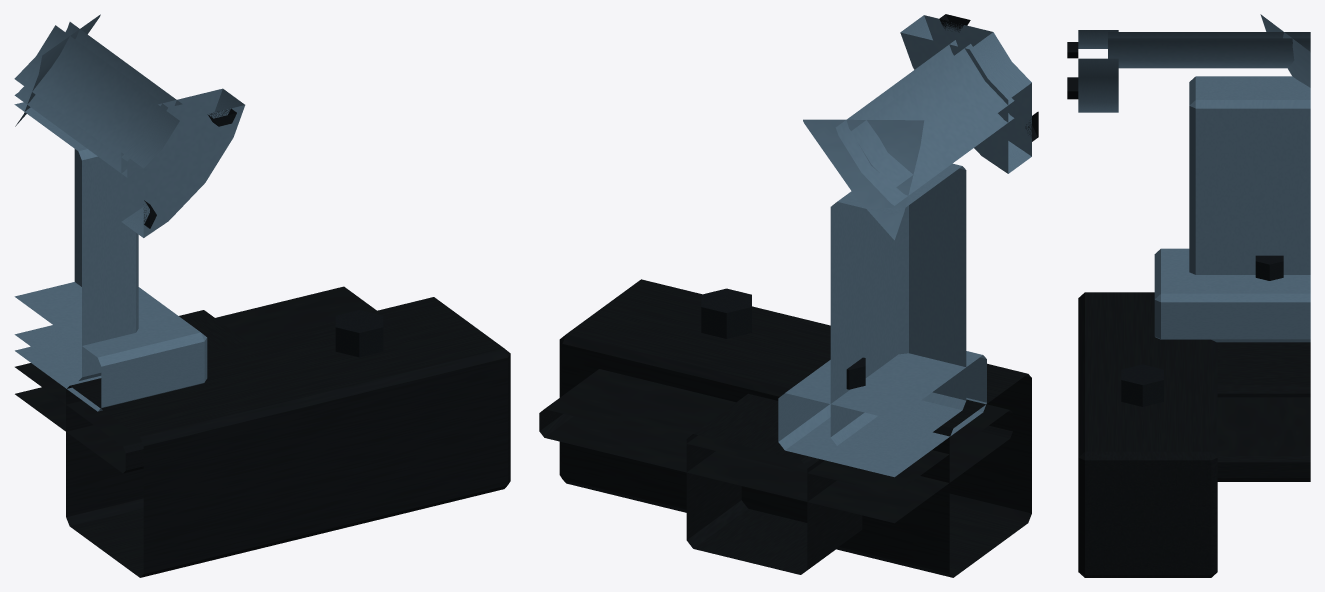
The model's file is cell_20.obj.
3 renders of one model, left to right at view 1: azimuth 30°, elevation 25°; view 2: azimuth 150°, elevation 25°; view 3: azimuth 270°, elevation 25°, orthographic. The views are drawn at different scales.
Visible parts, largest first — view 1: cell_20; view 2: cell_20; view 3: cell_20.
Boxes of the visible parts, x1,y1,x2,y2 form: cell_20: (14,14,510,577); cell_20: (539,14,1038,577); cell_20: (1067,14,1310,577).
Size of the model in its own units: 0.86 by 1 by 0.5447.
